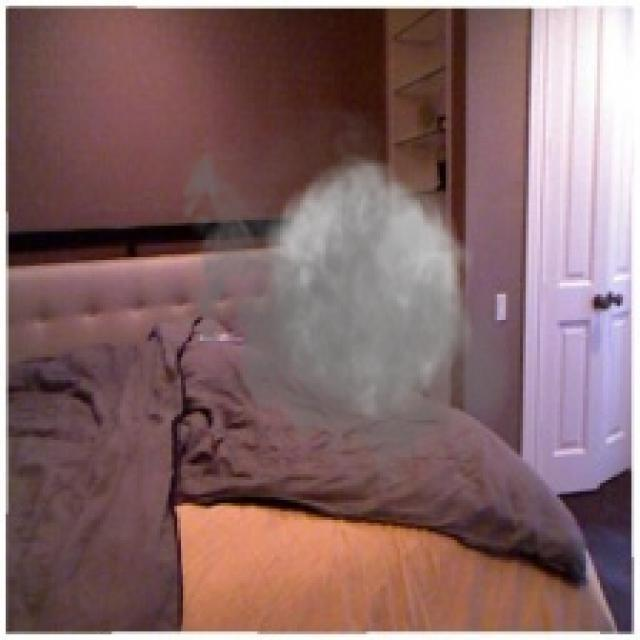Smoke: (171, 86, 523, 494)
